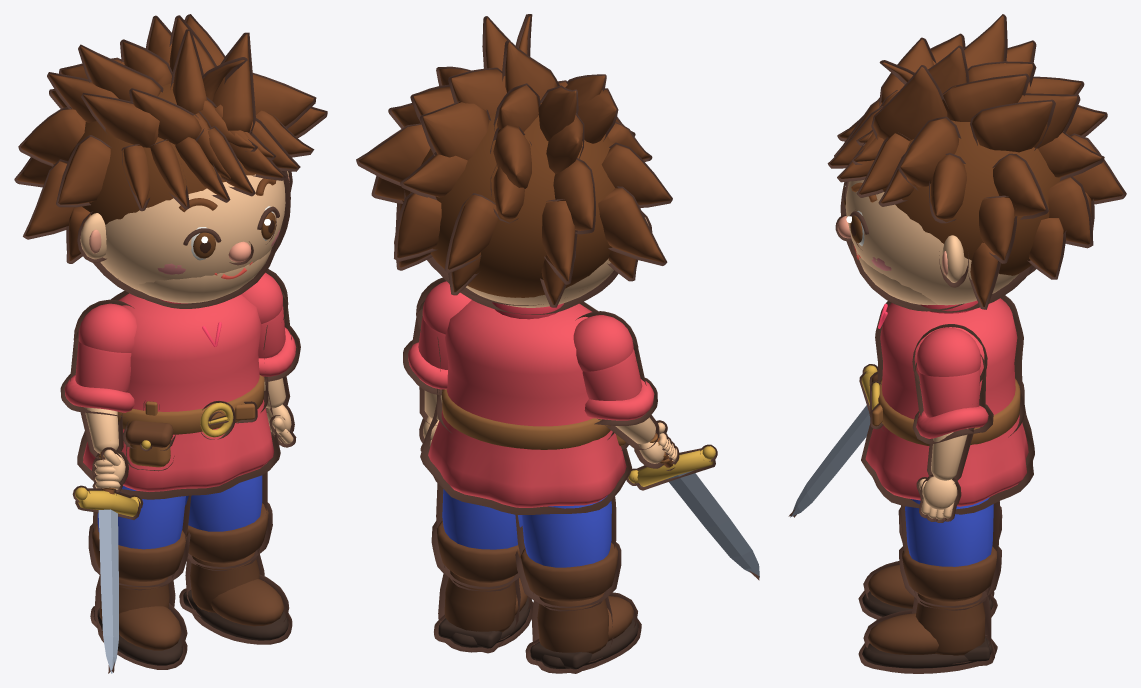
Rendered from ink.glb.
3 renders of one model, left to right at view 1: azimuth 30°, elevation 25°; view 2: azimuth 150°, elevation 25°; view 3: azimuth 270°, elevation 25°, orthographic. The views are drawn at different scales.
Visible parts, largest first — view 1: Tunic, Skull, HairCap, Jaw, TrousersL, TrousersR, BootCuffR, BootCuffL, Blade, ToeL, Spike2_7, ShoulderR (+44 smaller); view 2: Tunic, HairCap, TrousersR, Belt, BootCuffR, BootR, BootL, TrousersL, BootCuffL, Spike3_6, ShoulderR, Spike1_3 (+39 smaller); view 3: Tunic, Skull, HairCap, TrousersL, BootCuffL, BootL, Spike1_2, Spike1_0, ShoulderL, Spike0_1, SleeveL, Spike1_1 (+32 smaller).
Part boxes in pixels (x1=…): Tunic: x1=77, y1=290, x2=280, y2=499; Skull: x1=93, y1=171, x2=290, y2=305; HairCap: x1=67, y1=83, x2=285, y2=224; Jaw: x1=118, y1=236, x2=278, y2=308; TrousersL: x1=185, y1=472, x2=267, y2=570; TrousersR: x1=93, y1=485, x2=191, y2=590; BootCuffR: x1=88, y1=523, x2=190, y2=587; BootCuffL: x1=186, y1=502, x2=272, y2=568; Blade: x1=98, y1=509, x2=118, y2=673; ToeL: x1=208, y1=574, x2=289, y2=626; Spike2_7: x1=56, y1=135, x2=111, y2=207; ShoulderR: x1=73, y1=299, x2=136, y2=352; Tunic: x1=420, y1=300, x2=631, y2=514; HairCap: x1=404, y1=98, x2=614, y2=305; TrousersR: x1=515, y1=489, x2=616, y2=611; Belt: x1=437, y1=389, x2=613, y2=449; BootCuffR: x1=515, y1=542, x2=621, y2=607; BootR: x1=531, y1=589, x2=613, y2=662; BootL: x1=438, y1=566, x2=520, y2=640; TrousersL: x1=436, y1=483, x2=522, y2=591; BootCuffL: x1=431, y1=521, x2=520, y2=589; Spike3_6: x1=598, y1=186, x2=667, y2=265; ShoulderR: x1=573, y1=311, x2=638, y2=371; Spike1_3: x1=420, y1=101, x2=490, y2=160; Tunic: x1=861, y1=295, x2=1034, y2=514; Skull: x1=840, y1=179, x2=1033, y2=312; HairCap: x1=882, y1=120, x2=1060, y2=289; TrousersL: x1=900, y1=497, x2=999, y2=610; BootCuffL: x1=899, y1=546, x2=1001, y2=607; BootL: x1=911, y1=588, x2=991, y2=664; Spike1_2: x1=970, y1=99, x2=1055, y2=152; Spike1_0: x1=871, y1=65, x2=948, y2=140; ShoulderL: x1=912, y1=324, x2=987, y2=384; Spike0_1: x1=942, y1=73, x2=1029, y2=121; SleeveL: x1=914, y1=354, x2=986, y2=430; Spike1_1: x1=898, y1=116, x2=961, y2=190.
Bounding box in the file's own units: 1.1 × 2.15 × 1.1.
